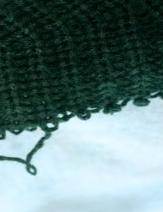snag: (0, 125, 72, 176)
